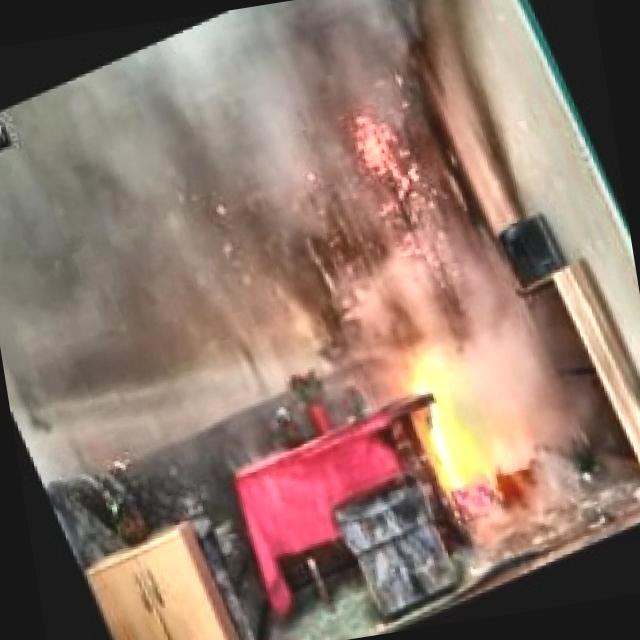fire: (354, 312, 540, 523)
smoke: (69, 0, 503, 423)
